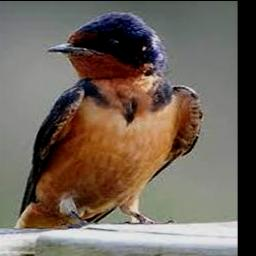Swallow: (15, 10, 204, 229)
